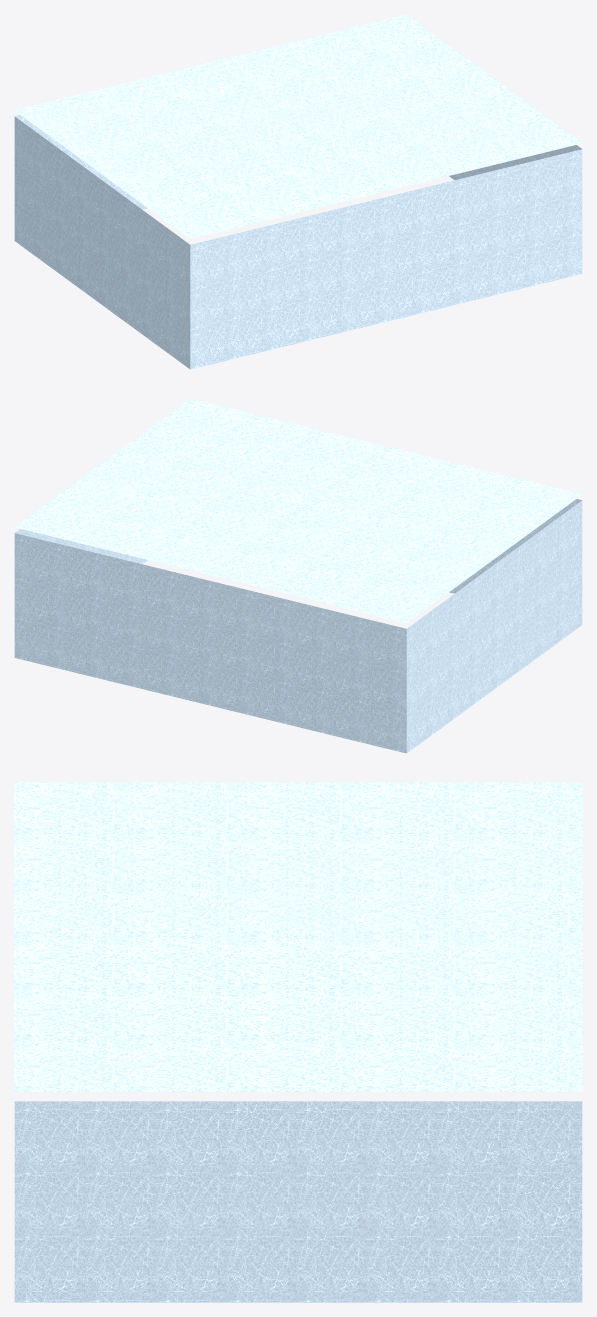
The model's file is sp_vault_frost.glb.
3 views of the same model, one above another, from view 1: azimuth 30°, elevation 25°; view 2: azimuth 150°, elevation 25°; view 3: azimuth 270°, elevation 25° (orthographic). The views are drawn at different scales.
Visible parts, largest first — view 1: spire; view 2: spire; view 3: spire.
Part boxes in pixels (left/top/right/bottom): spire: left=14, top=14, right=582, bottom=369; spire: left=14, top=398, right=582, bottom=753; spire: left=14, top=782, right=582, bottom=1302.
Size of the model in its own units: 31.3 by 9.95 by 24.3.
1 material, 1 textured.
